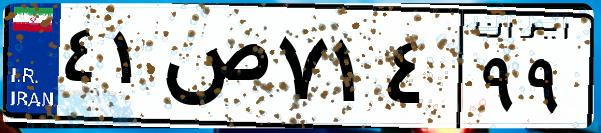1: (330, 28, 385, 110), (110, 28, 158, 98)
4: (385, 28, 445, 110), (57, 26, 110, 100)
7: (270, 28, 330, 110)
9: (475, 38, 525, 113), (525, 38, 570, 115)
ص: (158, 20, 270, 120)
